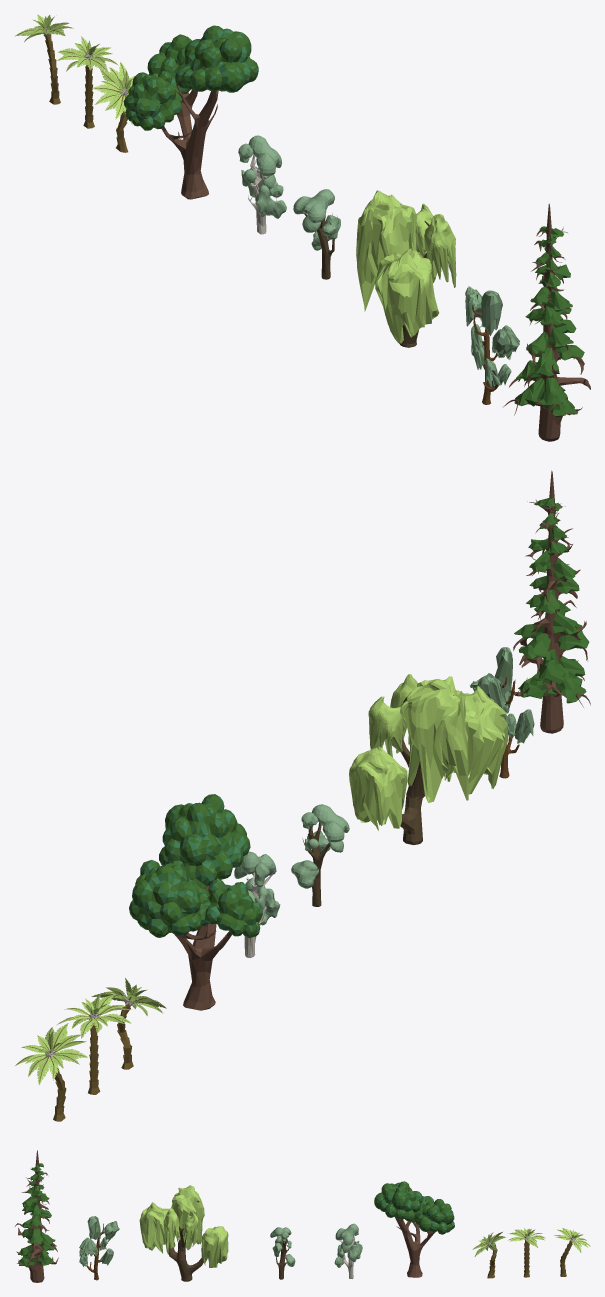
Rendered from TreePack_leaves.fbx.
The picture shows the model from 3 angles, top to bottom: view 1: azimuth 30°, elevation 25°; view 2: azimuth 150°, elevation 25°; view 3: azimuth 270°, elevation 25°; orthographic projection. The views are drawn at different scales.
Parts seen in each view (by area): view 1: Oak, Willow_leaves, Spruce, Linden_leaves, Birch, Poplar_leaves, Palm2, Palm1, Palm3; view 2: Willow_leaves, Oak, Spruce, Poplar_leaves, Linden_leaves, Palm3, Birch, Palm1, Palm2; view 3: Willow_leaves, Oak, Spruce, Linden_leaves, Birch, Poplar_leaves, Palm1, Palm3, Palm2.
Boxes of the visible parts, box(x1,y1,x2,y2) form: Oak: box(123, 25, 258, 199); Willow_leaves: box(356, 190, 456, 347); Spruce: box(502, 203, 590, 441); Linden_leaves: box(465, 286, 519, 404); Birch: box(238, 135, 286, 234); Poplar_leaves: box(293, 189, 340, 279); Palm2: box(92, 62, 134, 152); Palm1: box(57, 36, 118, 128); Palm3: box(15, 14, 73, 104); Willow_leaves: box(349, 674, 508, 845); Oak: box(129, 794, 262, 1010); Spruce: box(513, 470, 590, 733); Poplar_leaves: box(291, 804, 349, 906); Linden_leaves: box(470, 647, 534, 778); Palm3: box(15, 1023, 87, 1121); Birch: box(234, 851, 280, 957); Palm1: box(57, 994, 131, 1094); Palm2: box(91, 978, 166, 1069); Willow_leaves: box(139, 1185, 228, 1281); Oak: box(374, 1181, 454, 1277); Spruce: box(15, 1150, 58, 1282); Linden_leaves: box(79, 1216, 119, 1280); Birch: box(334, 1223, 362, 1278); Poplar_leaves: box(270, 1227, 295, 1279); Palm1: box(508, 1228, 545, 1277); Palm3: box(554, 1227, 590, 1276); Palm2: box(472, 1232, 505, 1278).
Bounding box in the file's own units: 1082 × 2223 × 8699.
